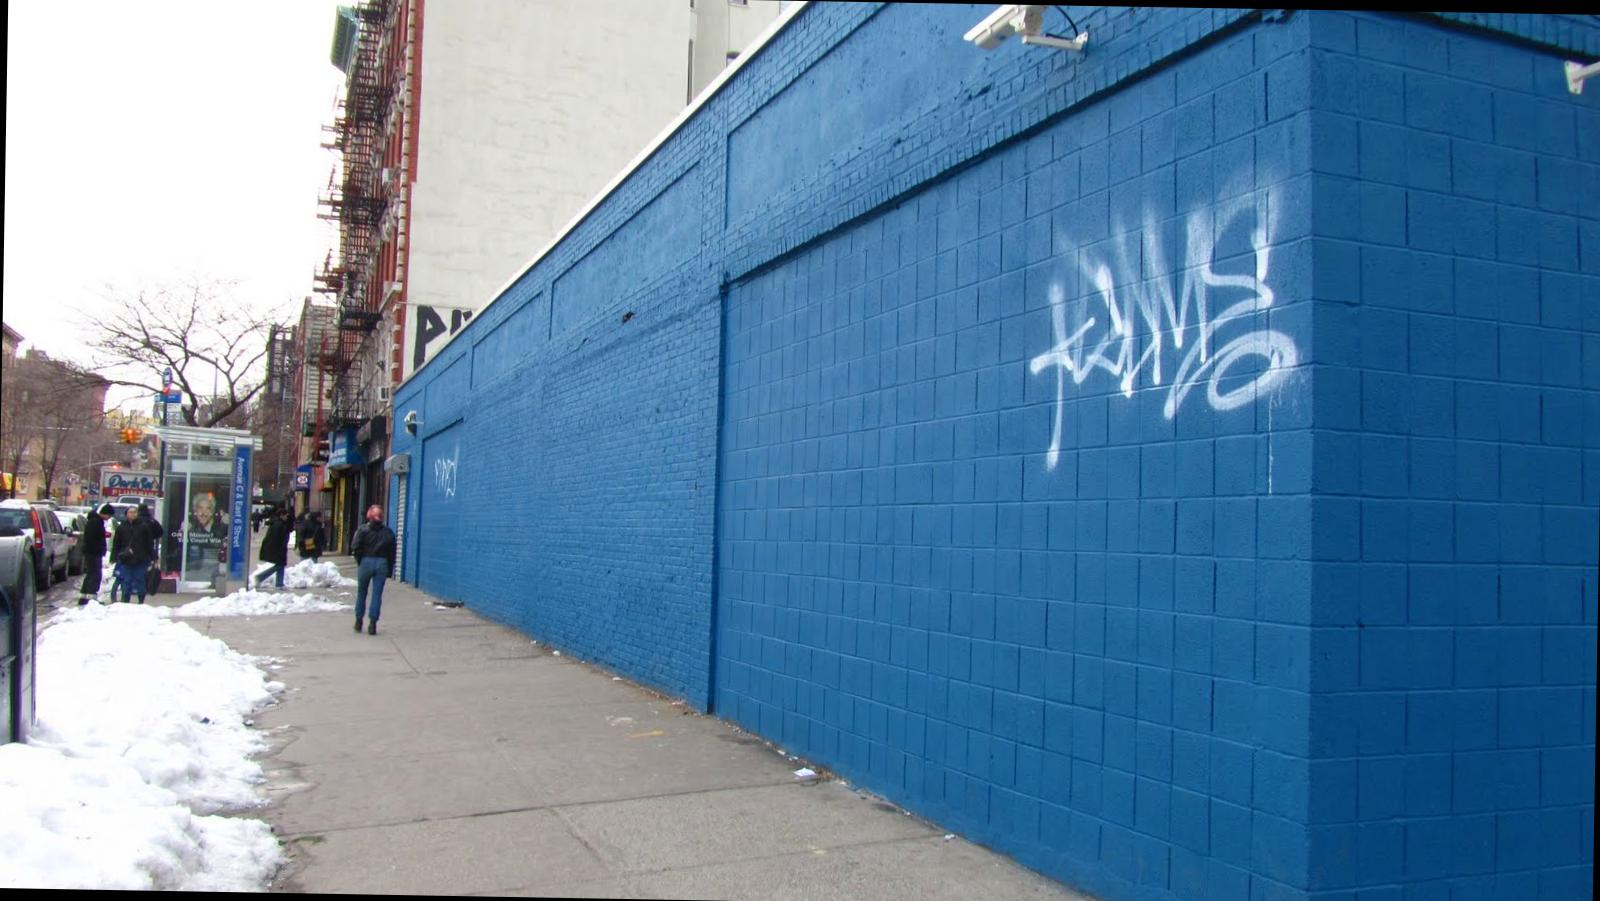graffiti: (1056, 213, 1303, 470), (412, 299, 459, 366), (421, 452, 467, 504)
